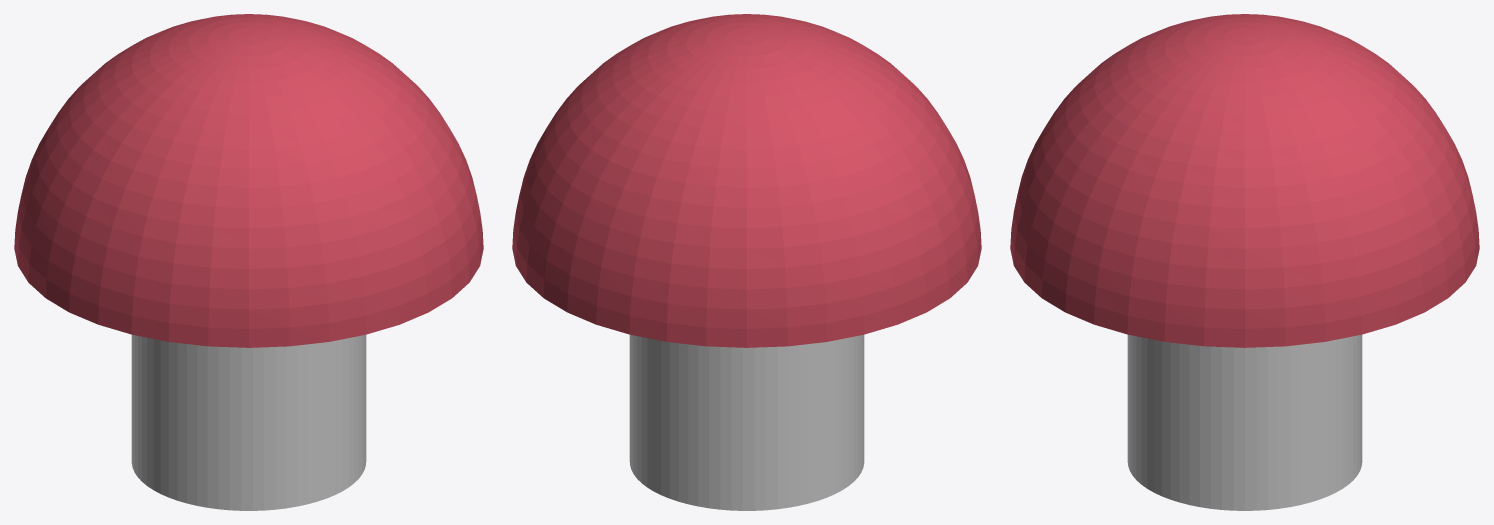
Rendered from Neat Habbi.glb.
The picture shows the model from 3 angles, left to right: view 1: azimuth 30°, elevation 25°; view 2: azimuth 150°, elevation 25°; view 3: azimuth 270°, elevation 25°; orthographic projection.
Visible parts, largest first — view 1: Mesh_Mesh_head_geo.001_lambert2SG.001; view 2: Mesh_Mesh_head_geo.001_lambert2SG.001; view 3: Mesh_Mesh_head_geo.001_lambert2SG.001.
Boxes of the visible parts, x1=… form: Mesh_Mesh_head_geo.001_lambert2SG.001: x1=14, y1=14, x2=483, y2=510; Mesh_Mesh_head_geo.001_lambert2SG.001: x1=512, y1=14, x2=981, y2=510; Mesh_Mesh_head_geo.001_lambert2SG.001: x1=1010, y1=14, x2=1479, y2=510.
Bounding box in the file's own units: 4 × 4 × 4.
